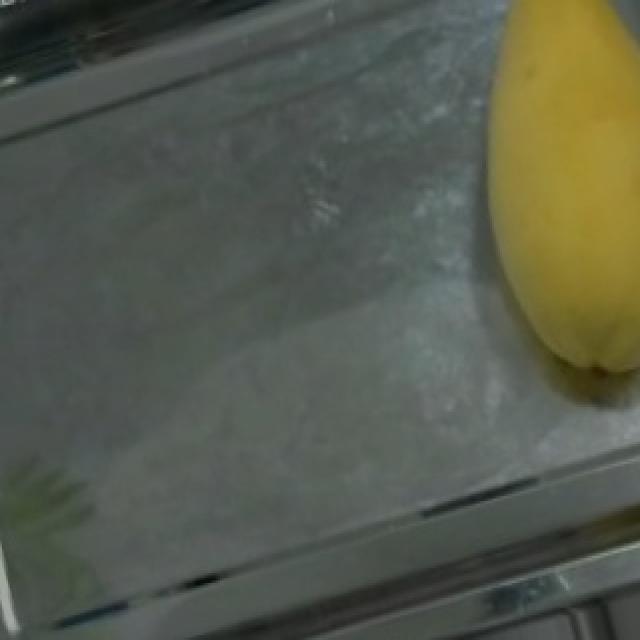fruit: (418, 0, 640, 352)
